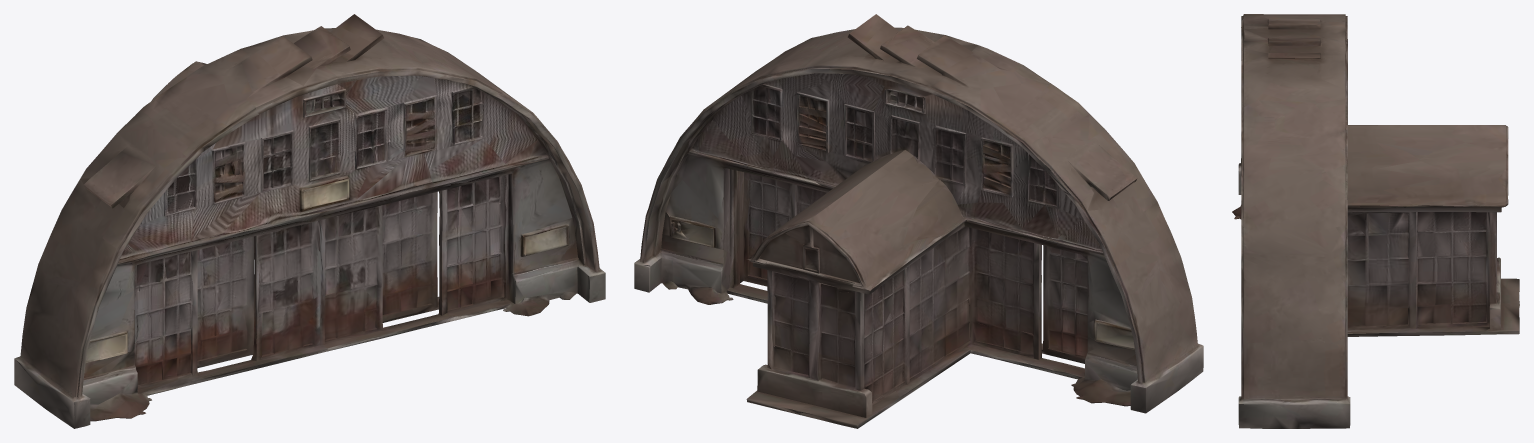
The model's file is hangar_c_idle.glb.
3 views of the same model, side by side, from view 1: azimuth 30°, elevation 25°; view 2: azimuth 150°, elevation 25°; view 3: azimuth 270°, elevation 25° (orthographic). The views are drawn at different scales.
Parts seen in each view (by area): view 1: tripo_node_1b17f760-fc61-4a16-b4cc-9f34cedc3eb4; view 2: tripo_node_1b17f760-fc61-4a16-b4cc-9f34cedc3eb4; view 3: tripo_node_1b17f760-fc61-4a16-b4cc-9f34cedc3eb4.
Part boxes in pixels (left/top/right/bottom): tripo_node_1b17f760-fc61-4a16-b4cc-9f34cedc3eb4: left=14, top=14, right=605, bottom=428; tripo_node_1b17f760-fc61-4a16-b4cc-9f34cedc3eb4: left=634, top=14, right=1203, bottom=428; tripo_node_1b17f760-fc61-4a16-b4cc-9f34cedc3eb4: left=1232, top=14, right=1519, bottom=428.
Size of the model in its own units: 24 by 13.03 by 12.06.
Materials: 1 (1 with a texture image).
